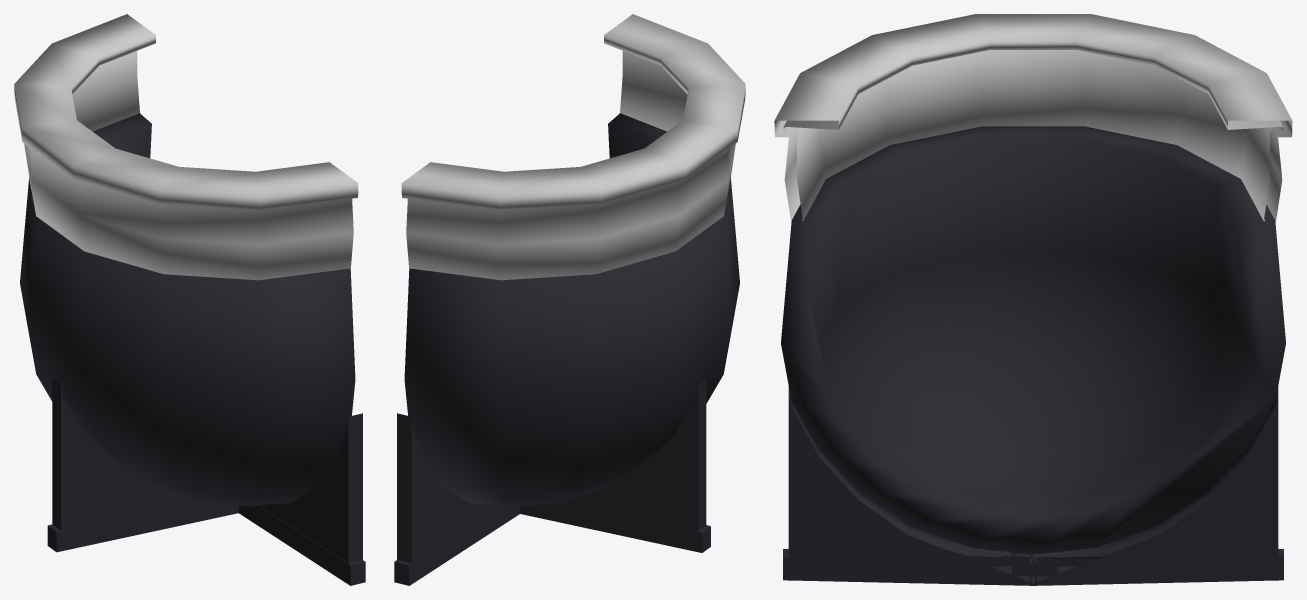
The model's file is Mitadmate2.fbx.
The picture shows the model from 3 angles, left to right: view 1: azimuth 30°, elevation 25°; view 2: azimuth 150°, elevation 25°; view 3: azimuth 270°, elevation 25°; orthographic projection. The views are drawn at different scales.
Parts seen in each view (by area): view 1: base2.011, base2.010, base2.009; view 2: base2.011, base2.010, base2.009; view 3: base2.011, base2.010, base2.009.
Boxes of the visible parts, left/top/right/bottom form: base2.011: left=20, top=113, right=355, bottom=506; base2.010: left=14, top=14, right=358, bottom=280; base2.009: left=47, top=378, right=365, bottom=585; base2.011: left=404, top=113, right=739, bottom=506; base2.010: left=401, top=14, right=745, bottom=280; base2.009: left=394, top=379, right=710, bottom=585; base2.011: left=781, top=126, right=1285, bottom=553; base2.010: left=774, top=14, right=1292, bottom=222; base2.009: left=783, top=386, right=1283, bottom=585.
Size of the model in its own units: 88.04 by 157 by 163.
